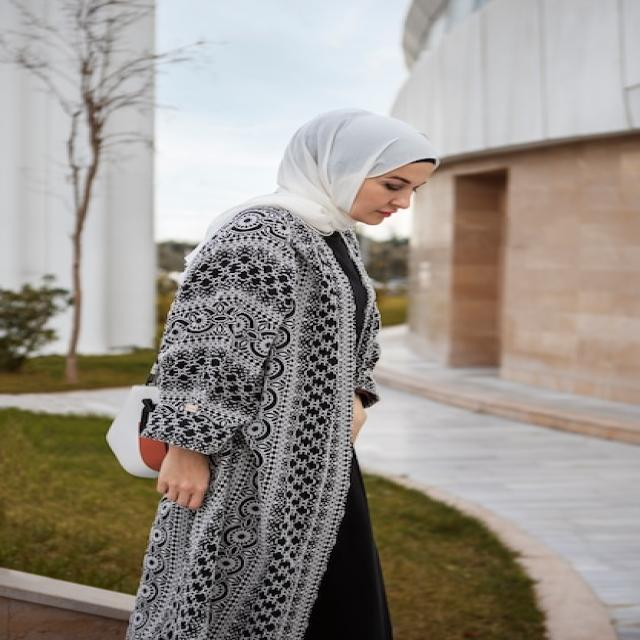Person: (108, 108, 440, 640)
